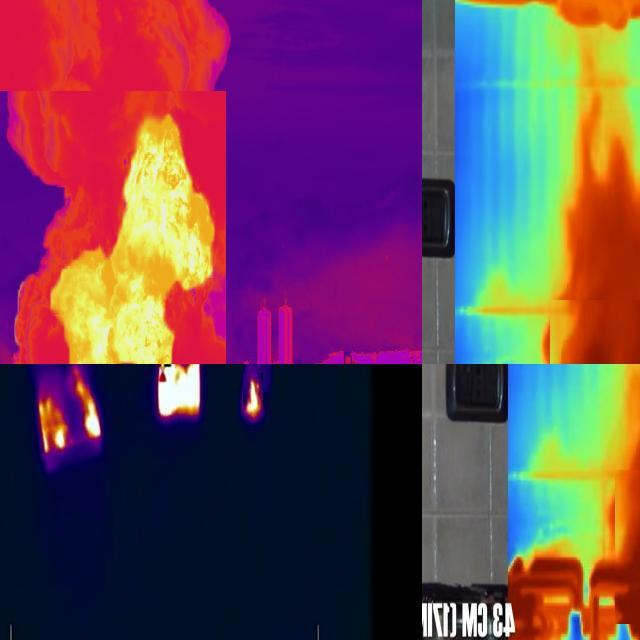fire: (47, 116, 219, 365), (506, 568, 640, 639), (550, 300, 640, 365), (155, 365, 201, 418), (38, 394, 70, 459), (76, 372, 101, 442), (243, 373, 263, 423)
